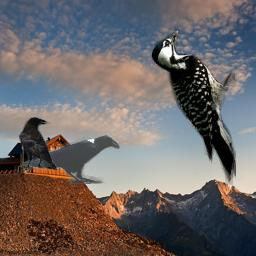Crow: (21, 134, 120, 184), (19, 117, 58, 172)
Woodpecker: (150, 27, 236, 185)
